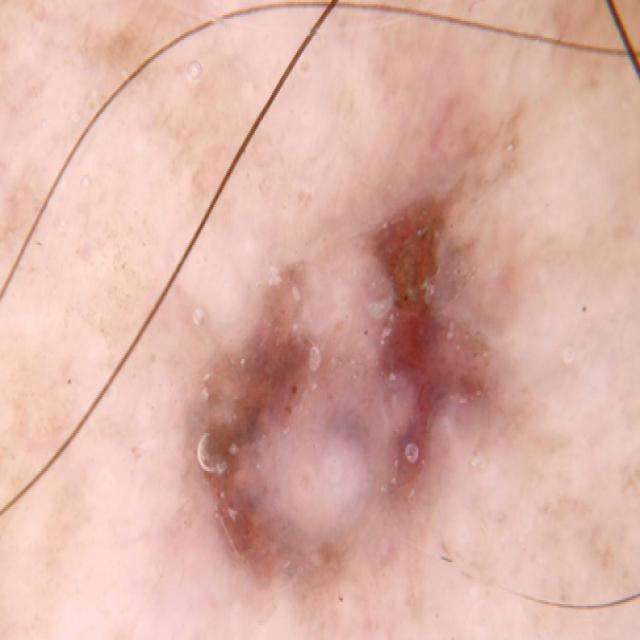Keratosis: (142, 142, 532, 640)
